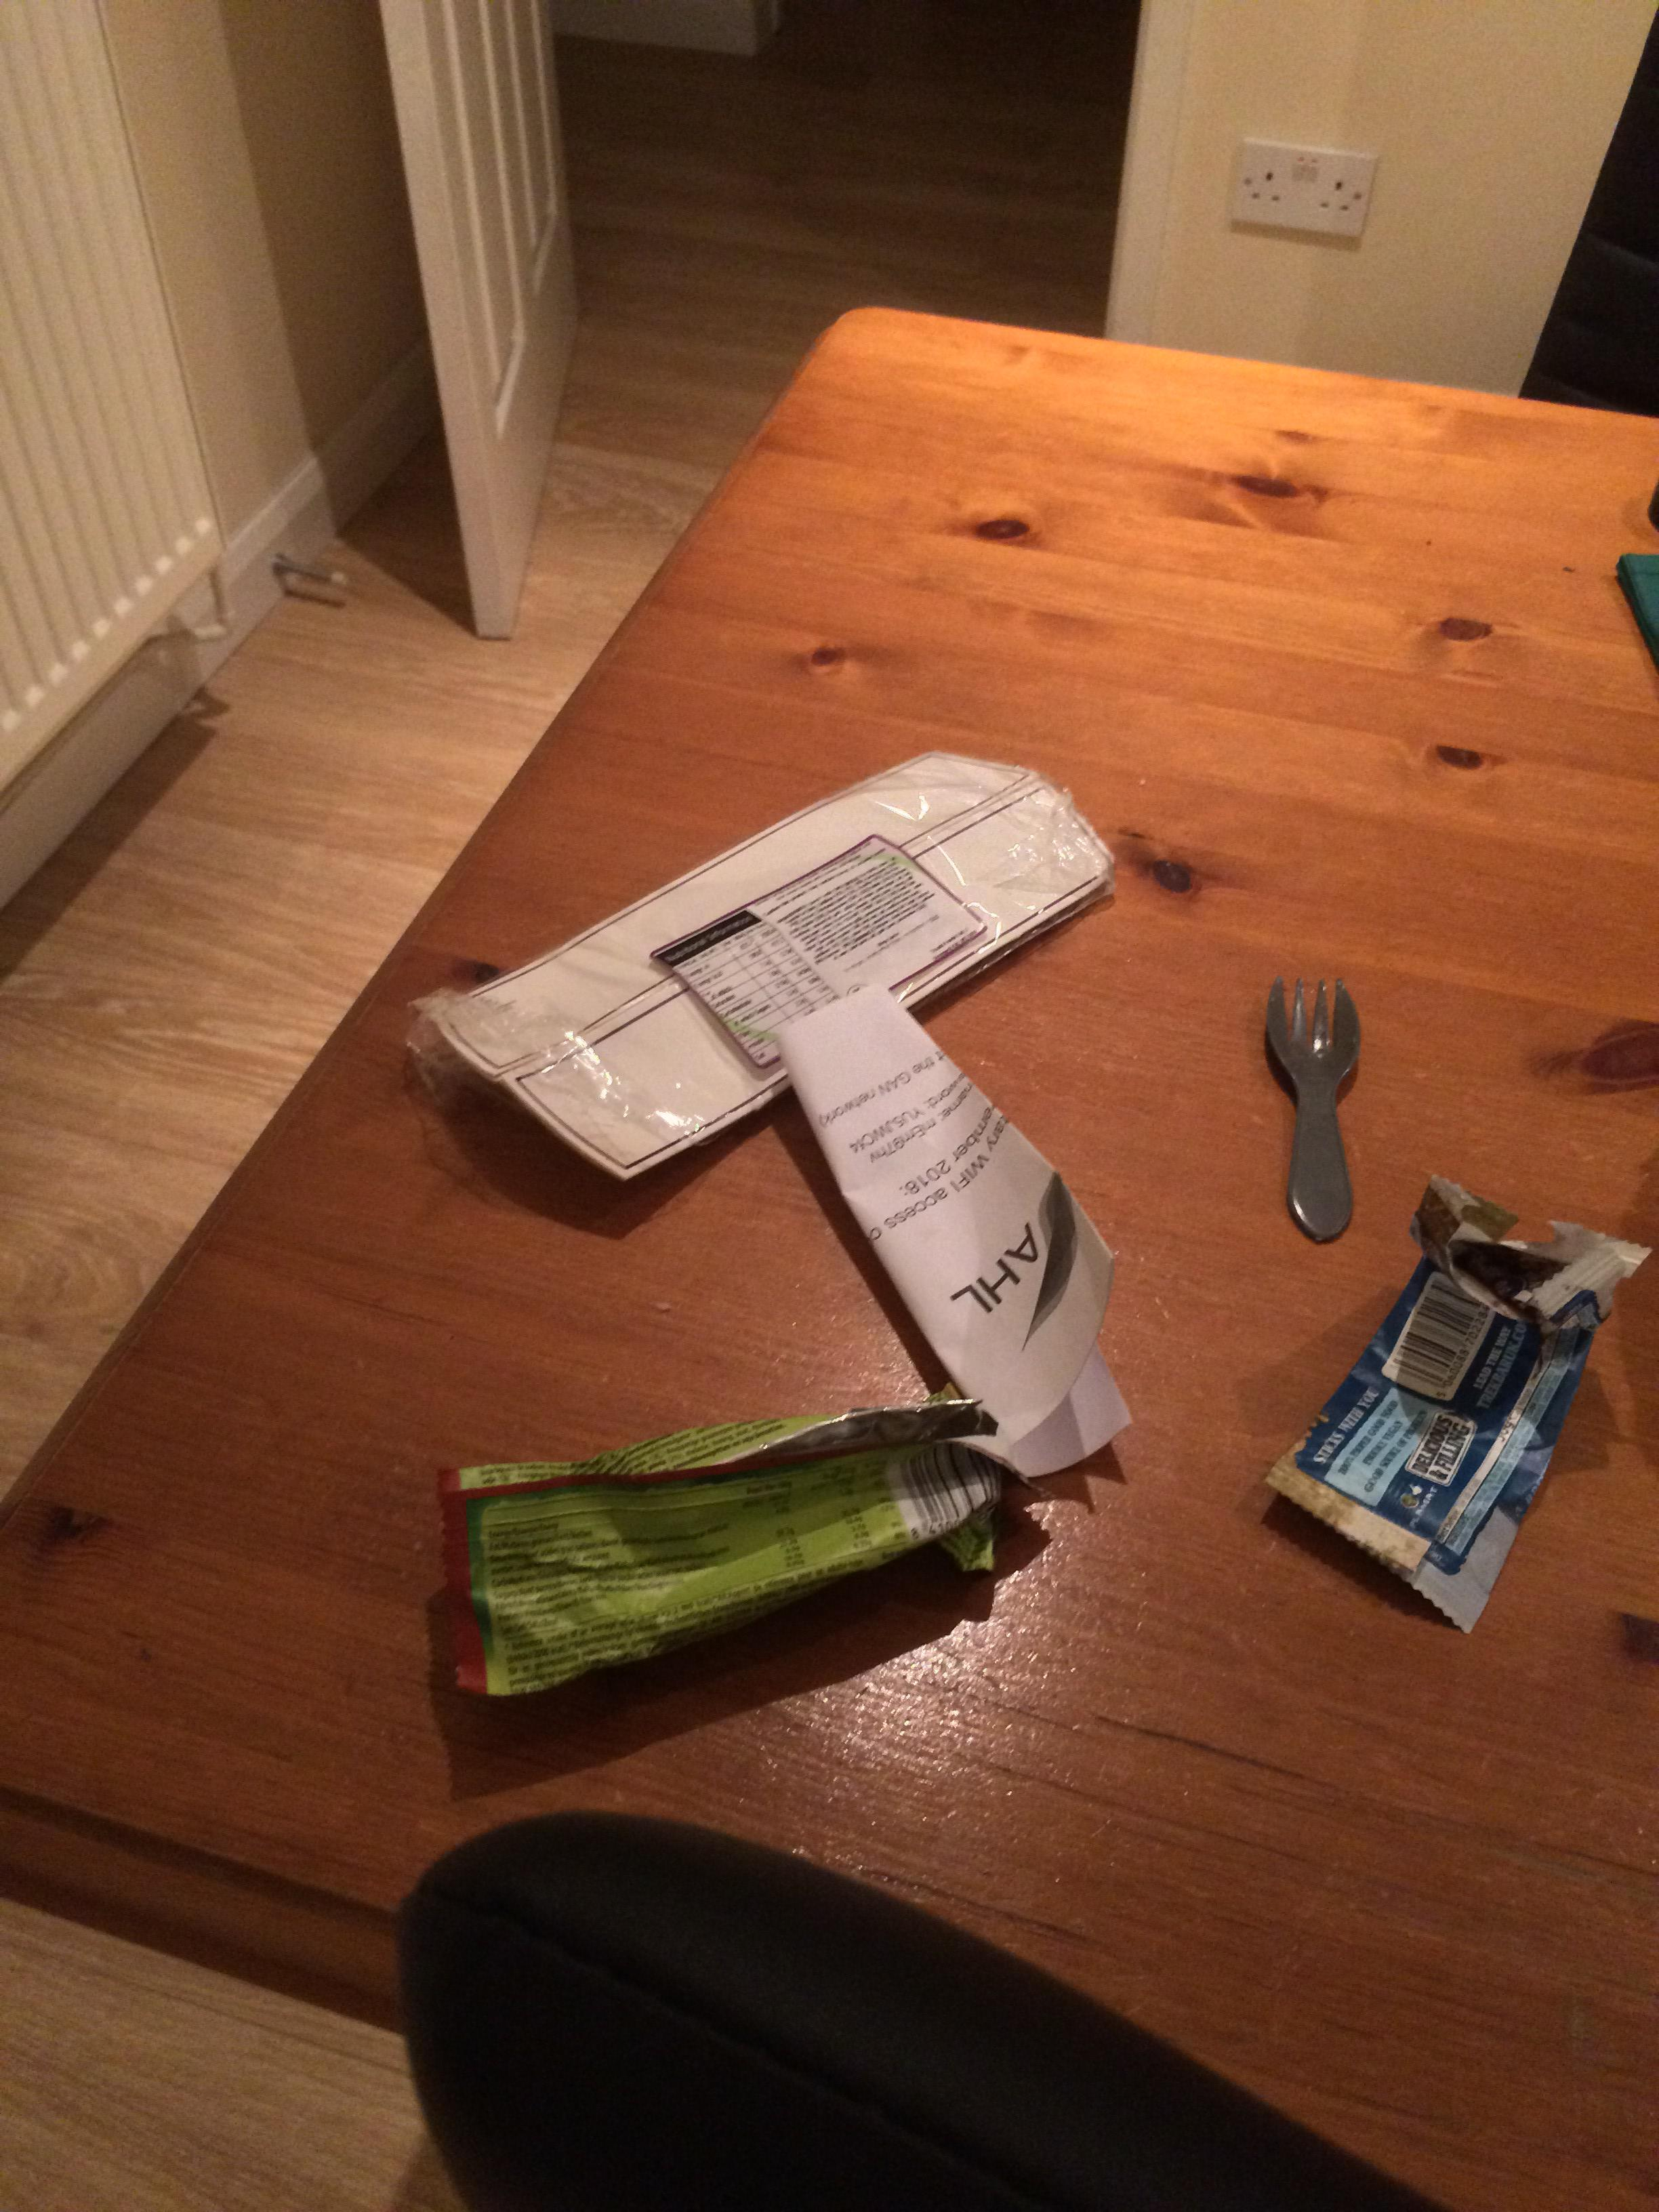Trash: (397, 752, 1114, 1202), (420, 1383, 1006, 1714), (1265, 1183, 1650, 1658), (781, 986, 1117, 1474), (1246, 965, 1378, 1245)
